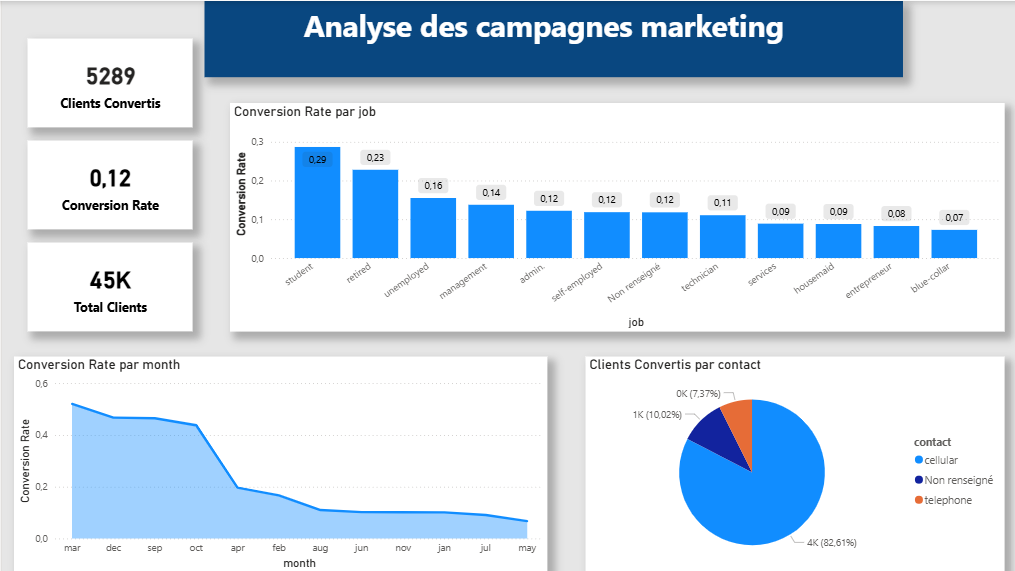

The dashboard page shown, as its layout file describes it:
{"tool":"powerbi","page":{"name":"PERFORMANCE MARKETING","canvas":[1280,720],"ordinal":0},"visuals":[{"type":"card","fields":{"Values":["bank-full.Clients Convertis"]},"box":[32,48,208,112],"z":0},{"type":"card","fields":{"Values":["bank-full.Conversion Rate"]},"box":[32,176,208,112],"z":1000},{"type":"card","fields":{"Values":["bank-full.Total Clients"]},"box":[32,304,208,112],"z":2000},{"type":"columnChart","fields":{"Category":["bank-full.job"],"Y":["bank-full.Conversion Rate"]},"box":[288,128,976,288],"z":3000},{"type":"pieChart","fields":{"Category":["bank-full.contact"],"Y":["bank-full.Clients Convertis"]},"box":[736,448,528,272],"z":4000},{"type":"areaChart","fields":{"Category":["bank-full.month"],"Y":["bank-full.Conversion Rate"]},"box":[16,448,672,272],"z":5000},{"type":"textbox","box":[256,0,880,96],"z":5001}]}

Visuals, with their boxes in screenshot pixels (x1, y1, x2, y2), scaled from the page's 1280x720 canvas onto the 1015x571 screenshot:
card - bank-full.Clients Convertis: bbox=[25, 38, 190, 127]
card - bank-full.Conversion Rate: bbox=[25, 140, 190, 228]
card - bank-full.Total Clients: bbox=[25, 241, 190, 330]
columnChart - bank-full.job x bank-full.Conversion Rate: bbox=[228, 102, 1002, 330]
pieChart - bank-full.contact x bank-full.Clients Convertis: bbox=[584, 355, 1002, 570]
areaChart - bank-full.month x bank-full.Conversion Rate: bbox=[13, 355, 546, 570]
textbox: bbox=[203, 0, 901, 76]
